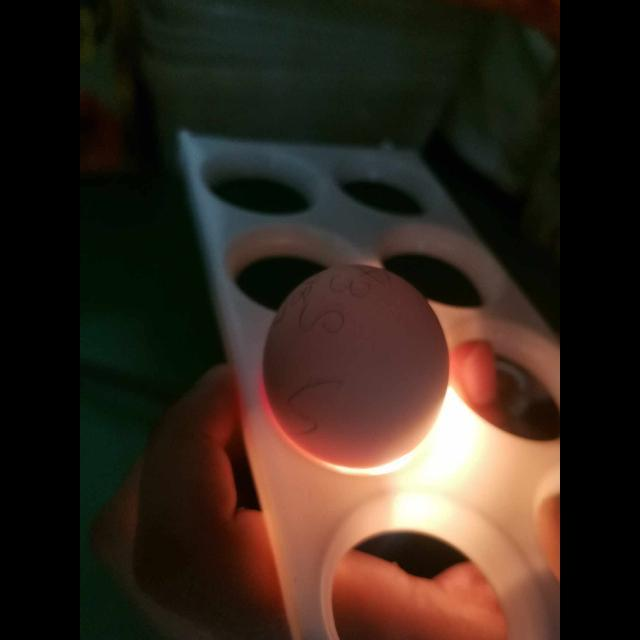Fertile: (260, 262, 448, 464)
